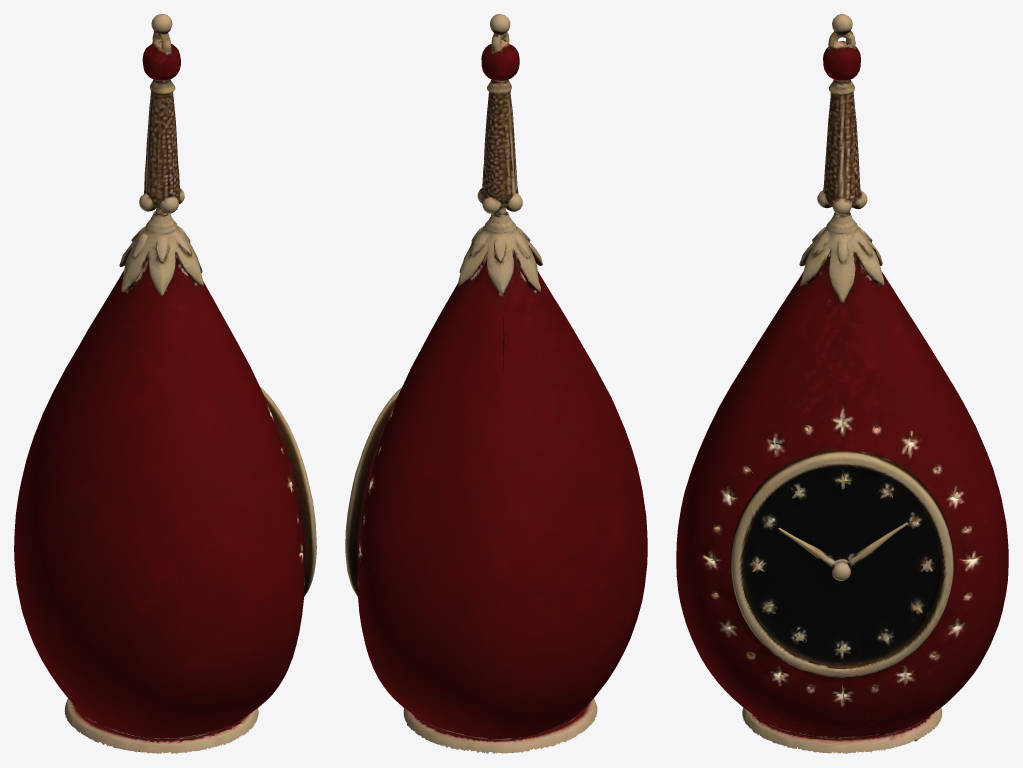
Rendered from NX-08_clock_game.glb.
3 renders of one model, left to right at view 1: azimuth 30°, elevation 25°; view 2: azimuth 150°, elevation 25°; view 3: azimuth 270°, elevation 25°, orthographic.
Visible parts, largest first — view 1: NX-08_clock; view 2: NX-08_clock; view 3: NX-08_clock.
Boxes of the visible parts, left/top/right/bottom form: NX-08_clock: left=14, top=14, right=316, bottom=753; NX-08_clock: left=345, top=14, right=647, bottom=753; NX-08_clock: left=676, top=14, right=1008, bottom=753.
Bounding box in the file's own units: 0.1152 × 0.32 × 0.138.
1 material, 1 textured.
